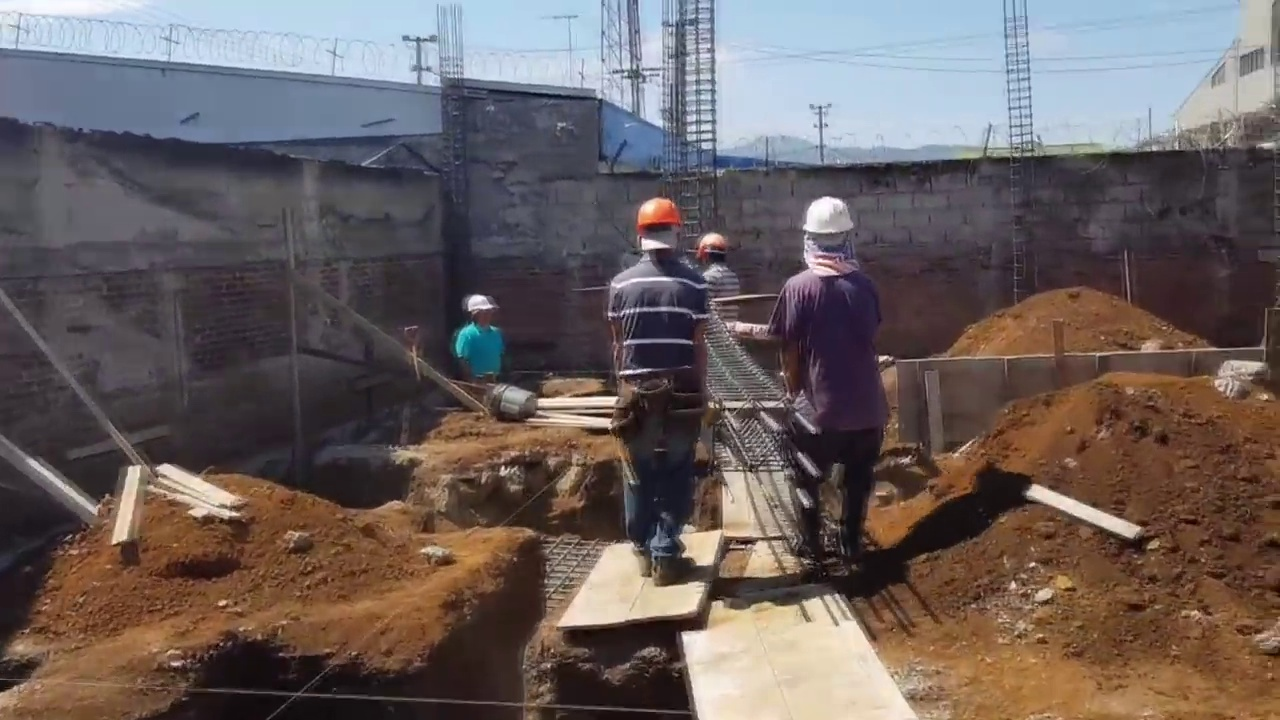helmet: (800, 194, 854, 244), (633, 197, 681, 228), (698, 230, 732, 257), (464, 296, 492, 312)
helmet-on: (798, 197, 853, 276), (633, 198, 682, 259), (700, 231, 733, 271), (463, 296, 492, 329)
person: (774, 189, 888, 571), (608, 204, 718, 599), (696, 229, 748, 330), (451, 293, 507, 379)
